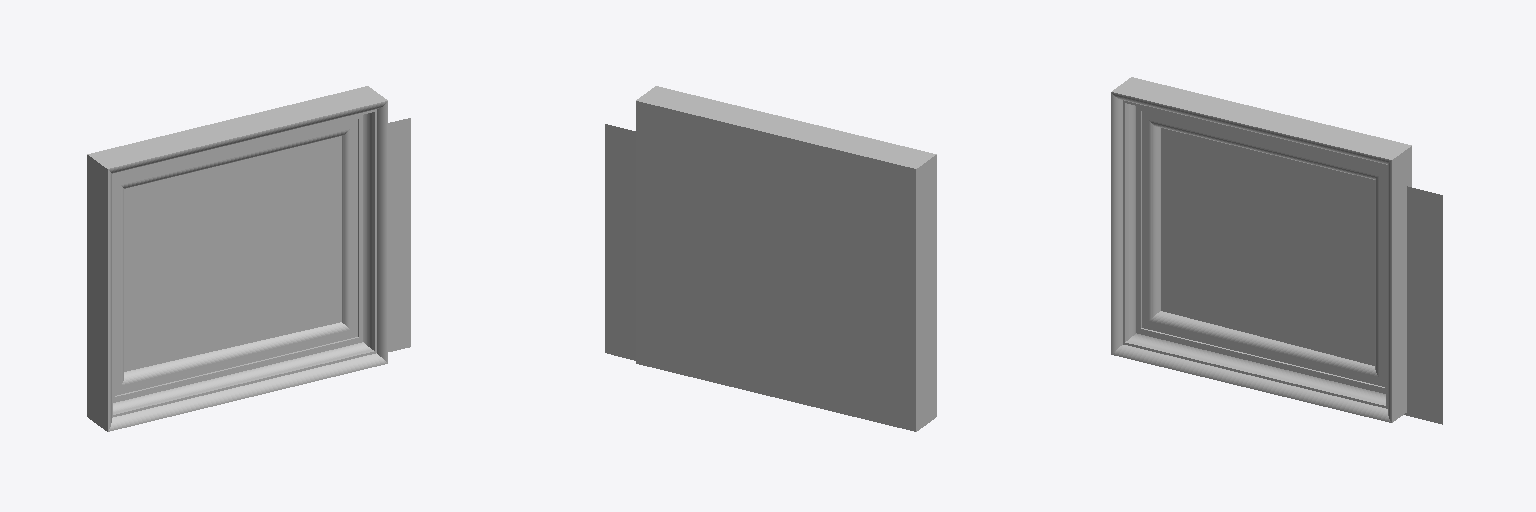
File: frame.obj
3 renders of one model, left to right at view 1: azimuth 30°, elevation 25°; view 2: azimuth 150°, elevation 25°; view 3: azimuth 330°, elevation 25°, orthographic.
Visible parts, largest first — view 1: Layer0_001, Group_001; view 2: Group_001, Layer0_001; view 3: Layer0_001, Group_001.
Part boxes in pixels (x1,y1,x2,y2): Layer0_001: (124, 118, 410, 371); Group_001: (87, 86, 387, 431); Group_001: (636, 86, 936, 431); Layer0_001: (605, 124, 635, 360); Layer0_001: (1161, 128, 1442, 424); Group_001: (1111, 77, 1411, 422).
Size of the model in its own units: 47.34 by 37.91 by 5.24.